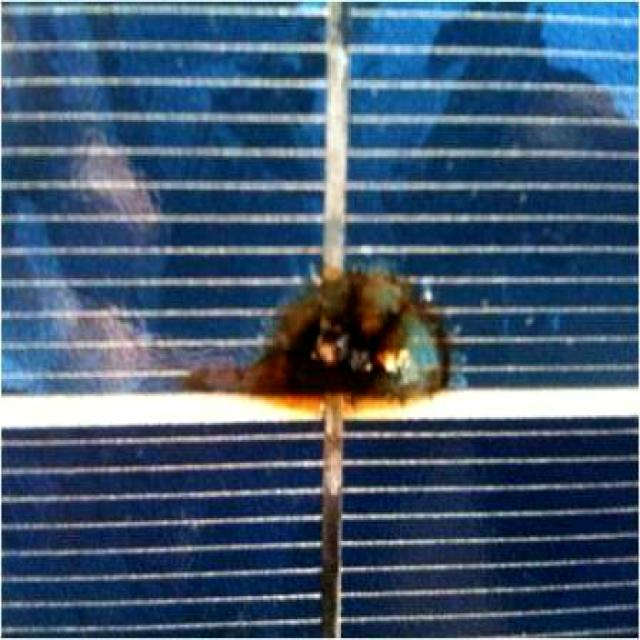shadow: (168, 225, 466, 592)
